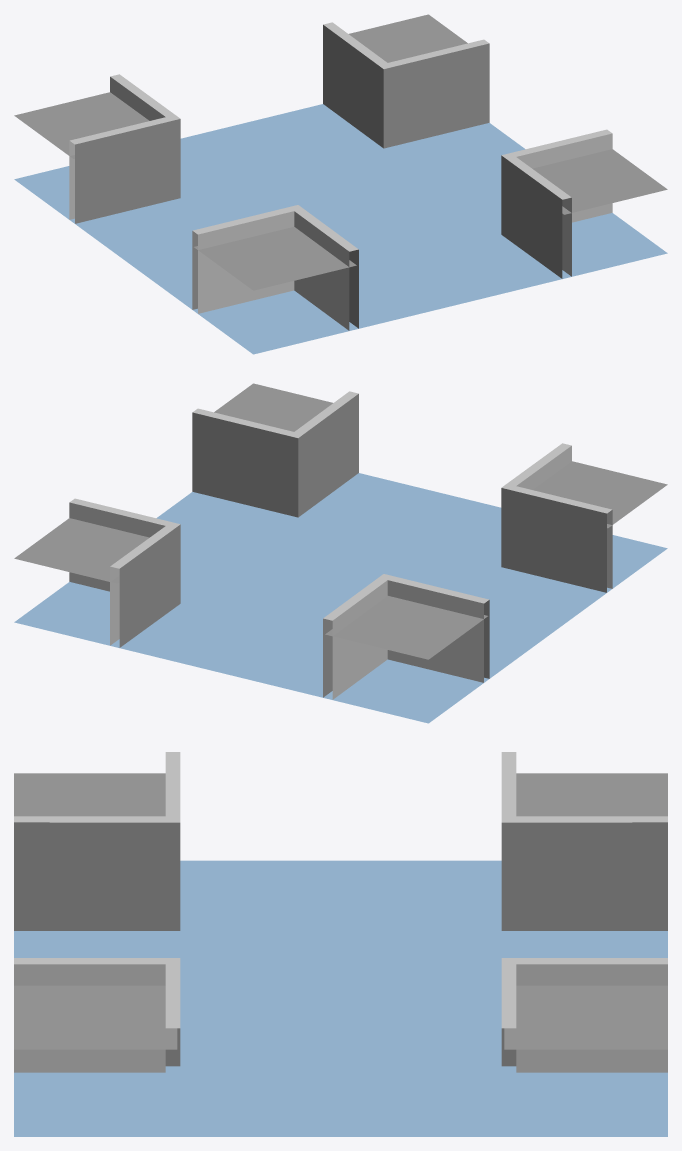
Rendered from road_tile_river_1x1_003.glb.
3 views of the same model, one above another, from view 1: azimuth 30°, elevation 25°; view 2: azimuth 150°, elevation 25°; view 3: azimuth 270°, elevation 25° (orthographic). The views are drawn at different scales.
Parts seen in each view (by area): view 1: road_tile_river_1x1_003; view 2: road_tile_river_1x1_003; view 3: road_tile_river_1x1_003.
Boxes of the visible parts, <box> form: road_tile_river_1x1_003: <box>14,14,667,354</box>; road_tile_river_1x1_003: <box>14,383,667,723</box>; road_tile_river_1x1_003: <box>14,752,667,1136</box>.
Size of the model in its own units: 8 by 1.46 by 8.
1 material, 1 textured.
